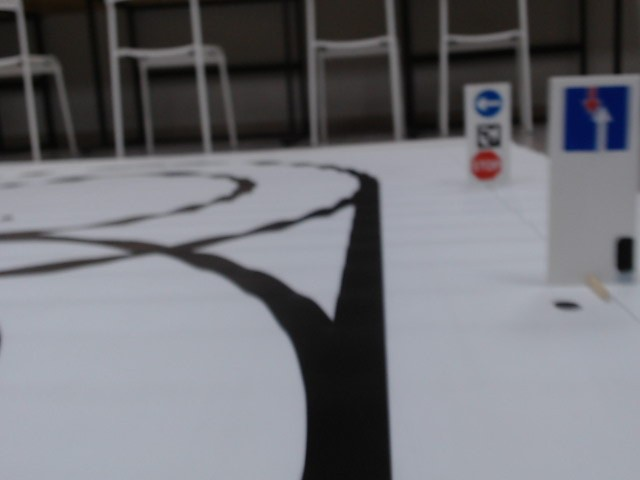Stop: (471, 151, 501, 178)
priority_movement: (563, 84, 630, 155)
